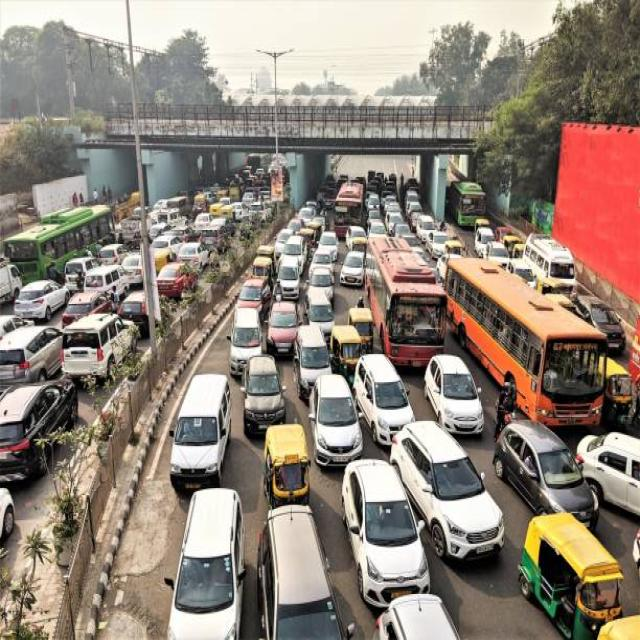Bus: (442, 255, 608, 428), (528, 297, 607, 423), (368, 224, 448, 339), (2, 202, 114, 283)
Car: (399, 410, 508, 544), (337, 459, 437, 589), (169, 484, 238, 634), (244, 351, 289, 410)
MiniBus: (183, 361, 225, 473), (67, 305, 110, 384)
